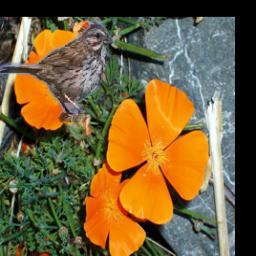Sparrow: (0, 20, 115, 123)
